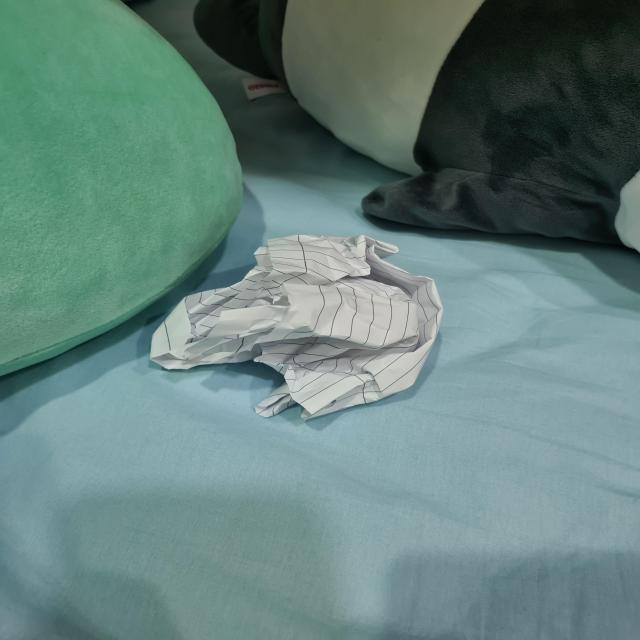paper: (145, 235, 438, 415)
